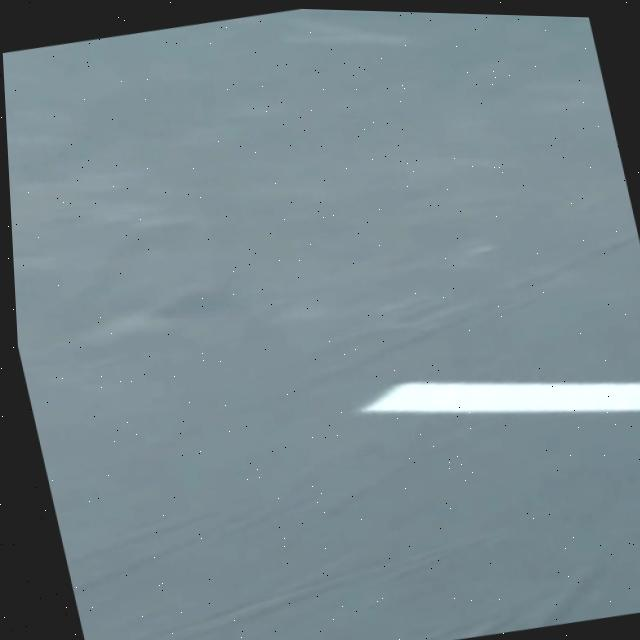center: (360, 380, 640, 410)
